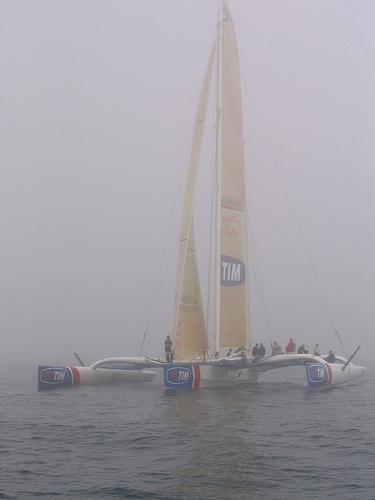Ship: (40, 1, 371, 392)
